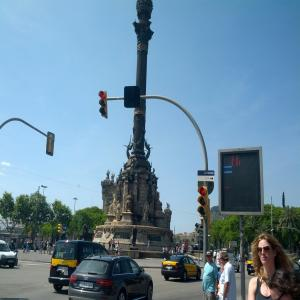Vehicle-registration-plate: (78, 281, 95, 289), (59, 267, 69, 271)
